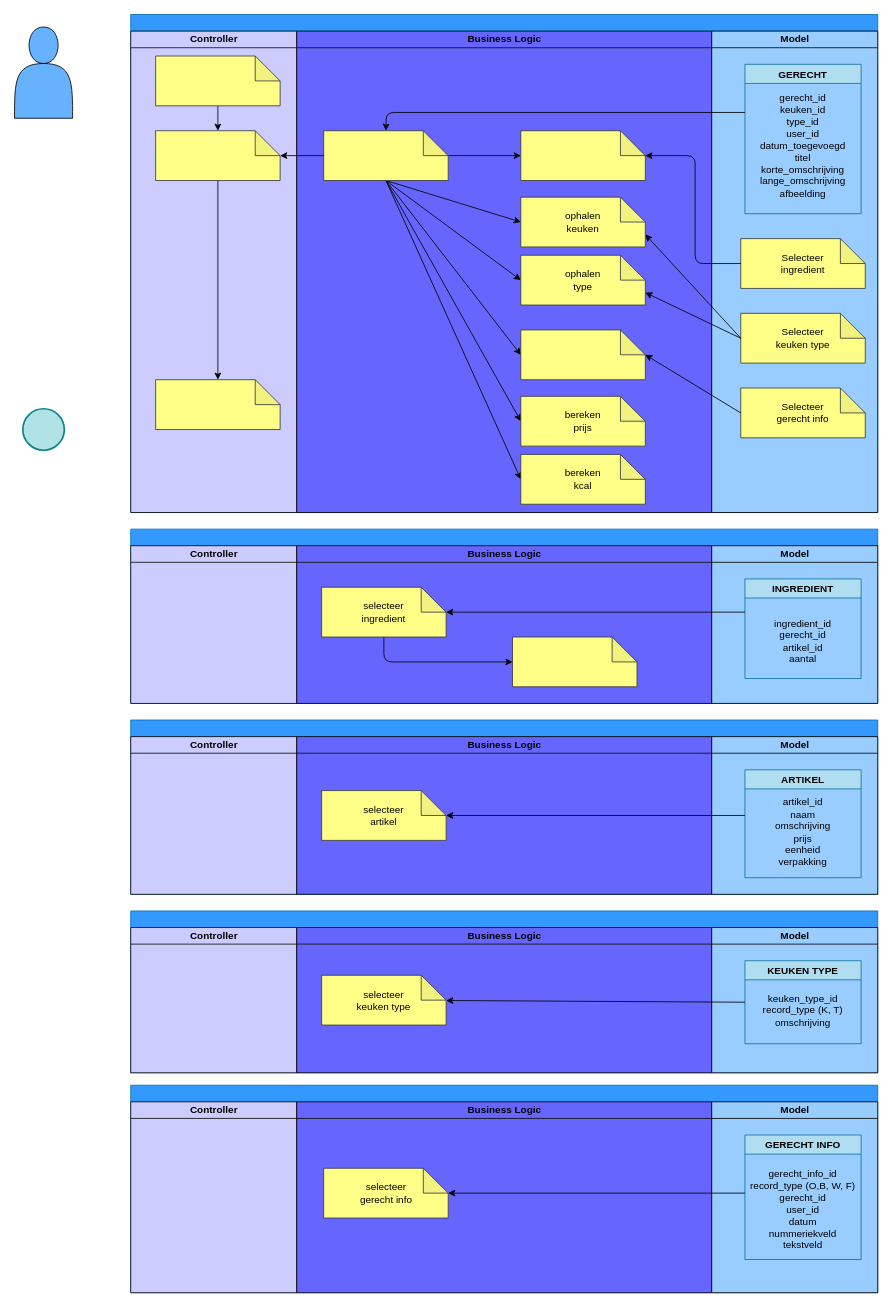
This 892x1307 diagram has some shape labels left out. Here are the shapes that lost their labels. From the top down, the centre of each, then its label:
(217,80): Initialisatie
(217,155): Zoekterm invoeren
(385,155): Selecteer gerecht
(582,155): ophalen ingredient
(582,354): ophalen waardering
(217,404): Resultaat tonen
(574,661): ophalen artikel
